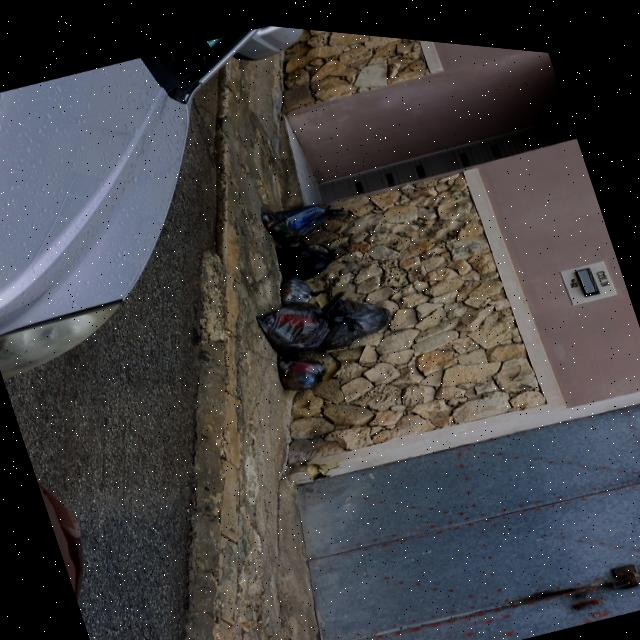Mixed Waste -Black Bag-: (250, 275, 363, 366), (309, 274, 400, 356), (258, 179, 355, 251), (273, 224, 346, 284), (270, 337, 334, 397), (271, 256, 332, 307)
